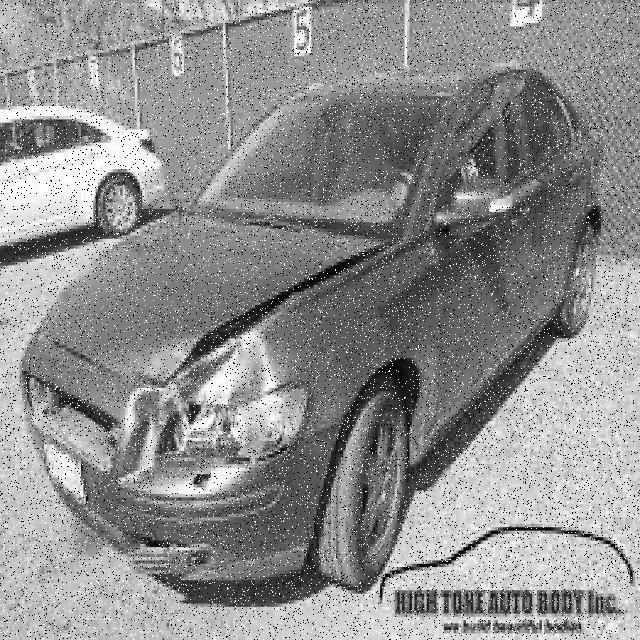fender-dent: (200, 301, 445, 460)
